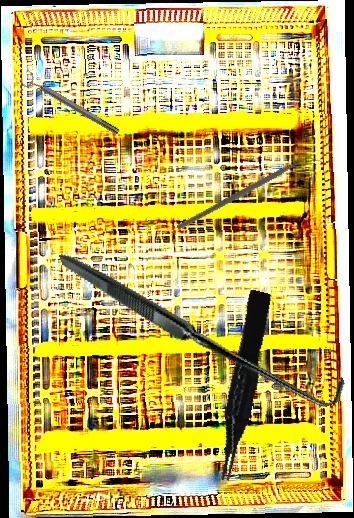Chopper: (176, 114, 322, 275)
Fixation Ring: (18, 68, 123, 141)
Hook Surgical: (58, 176, 351, 477)
Tissue Forceps: (204, 289, 280, 483)
